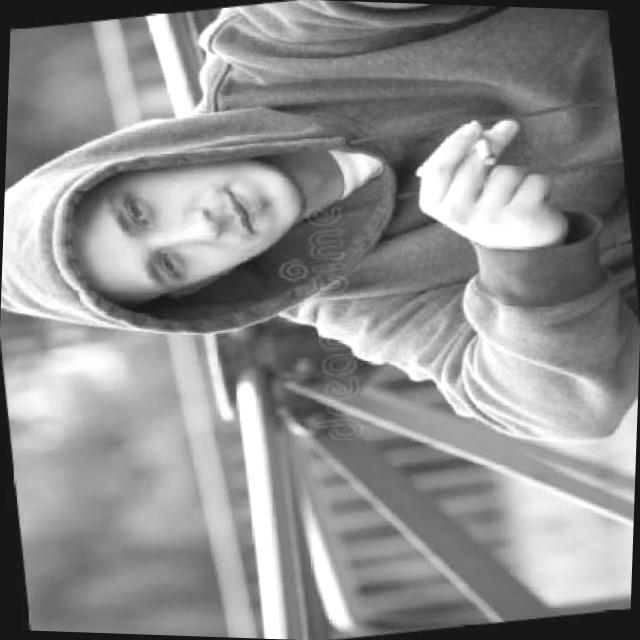smoke: (474, 130, 501, 170)
